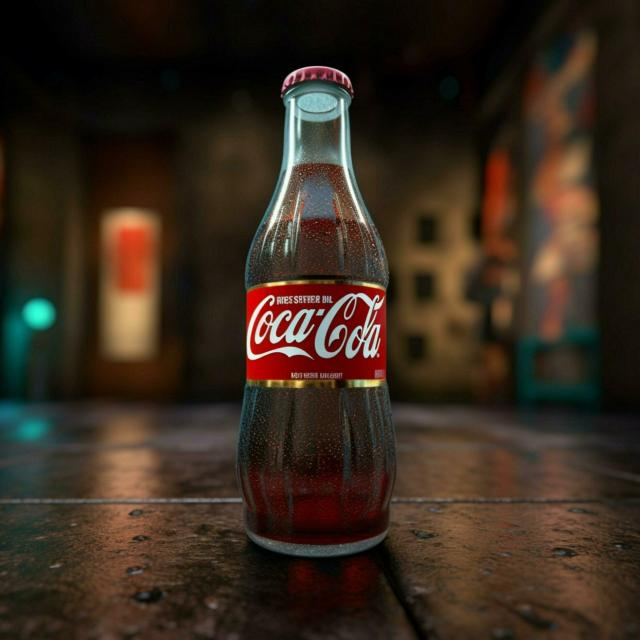coca cola: (244, 292, 386, 367)
